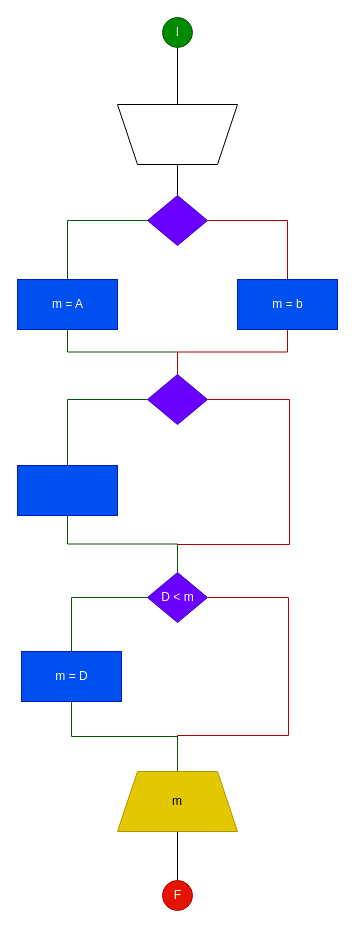
Image size: 355x928. Some labels were removed from this diagram. The box of each missing label's shape, as (x1, y1, x2, y2) in pixels:
A , B , C , D: (116, 104, 238, 164)
A < B: (146, 194, 208, 246)
C < m: (146, 374, 208, 424)
m = C: (16, 464, 118, 516)
